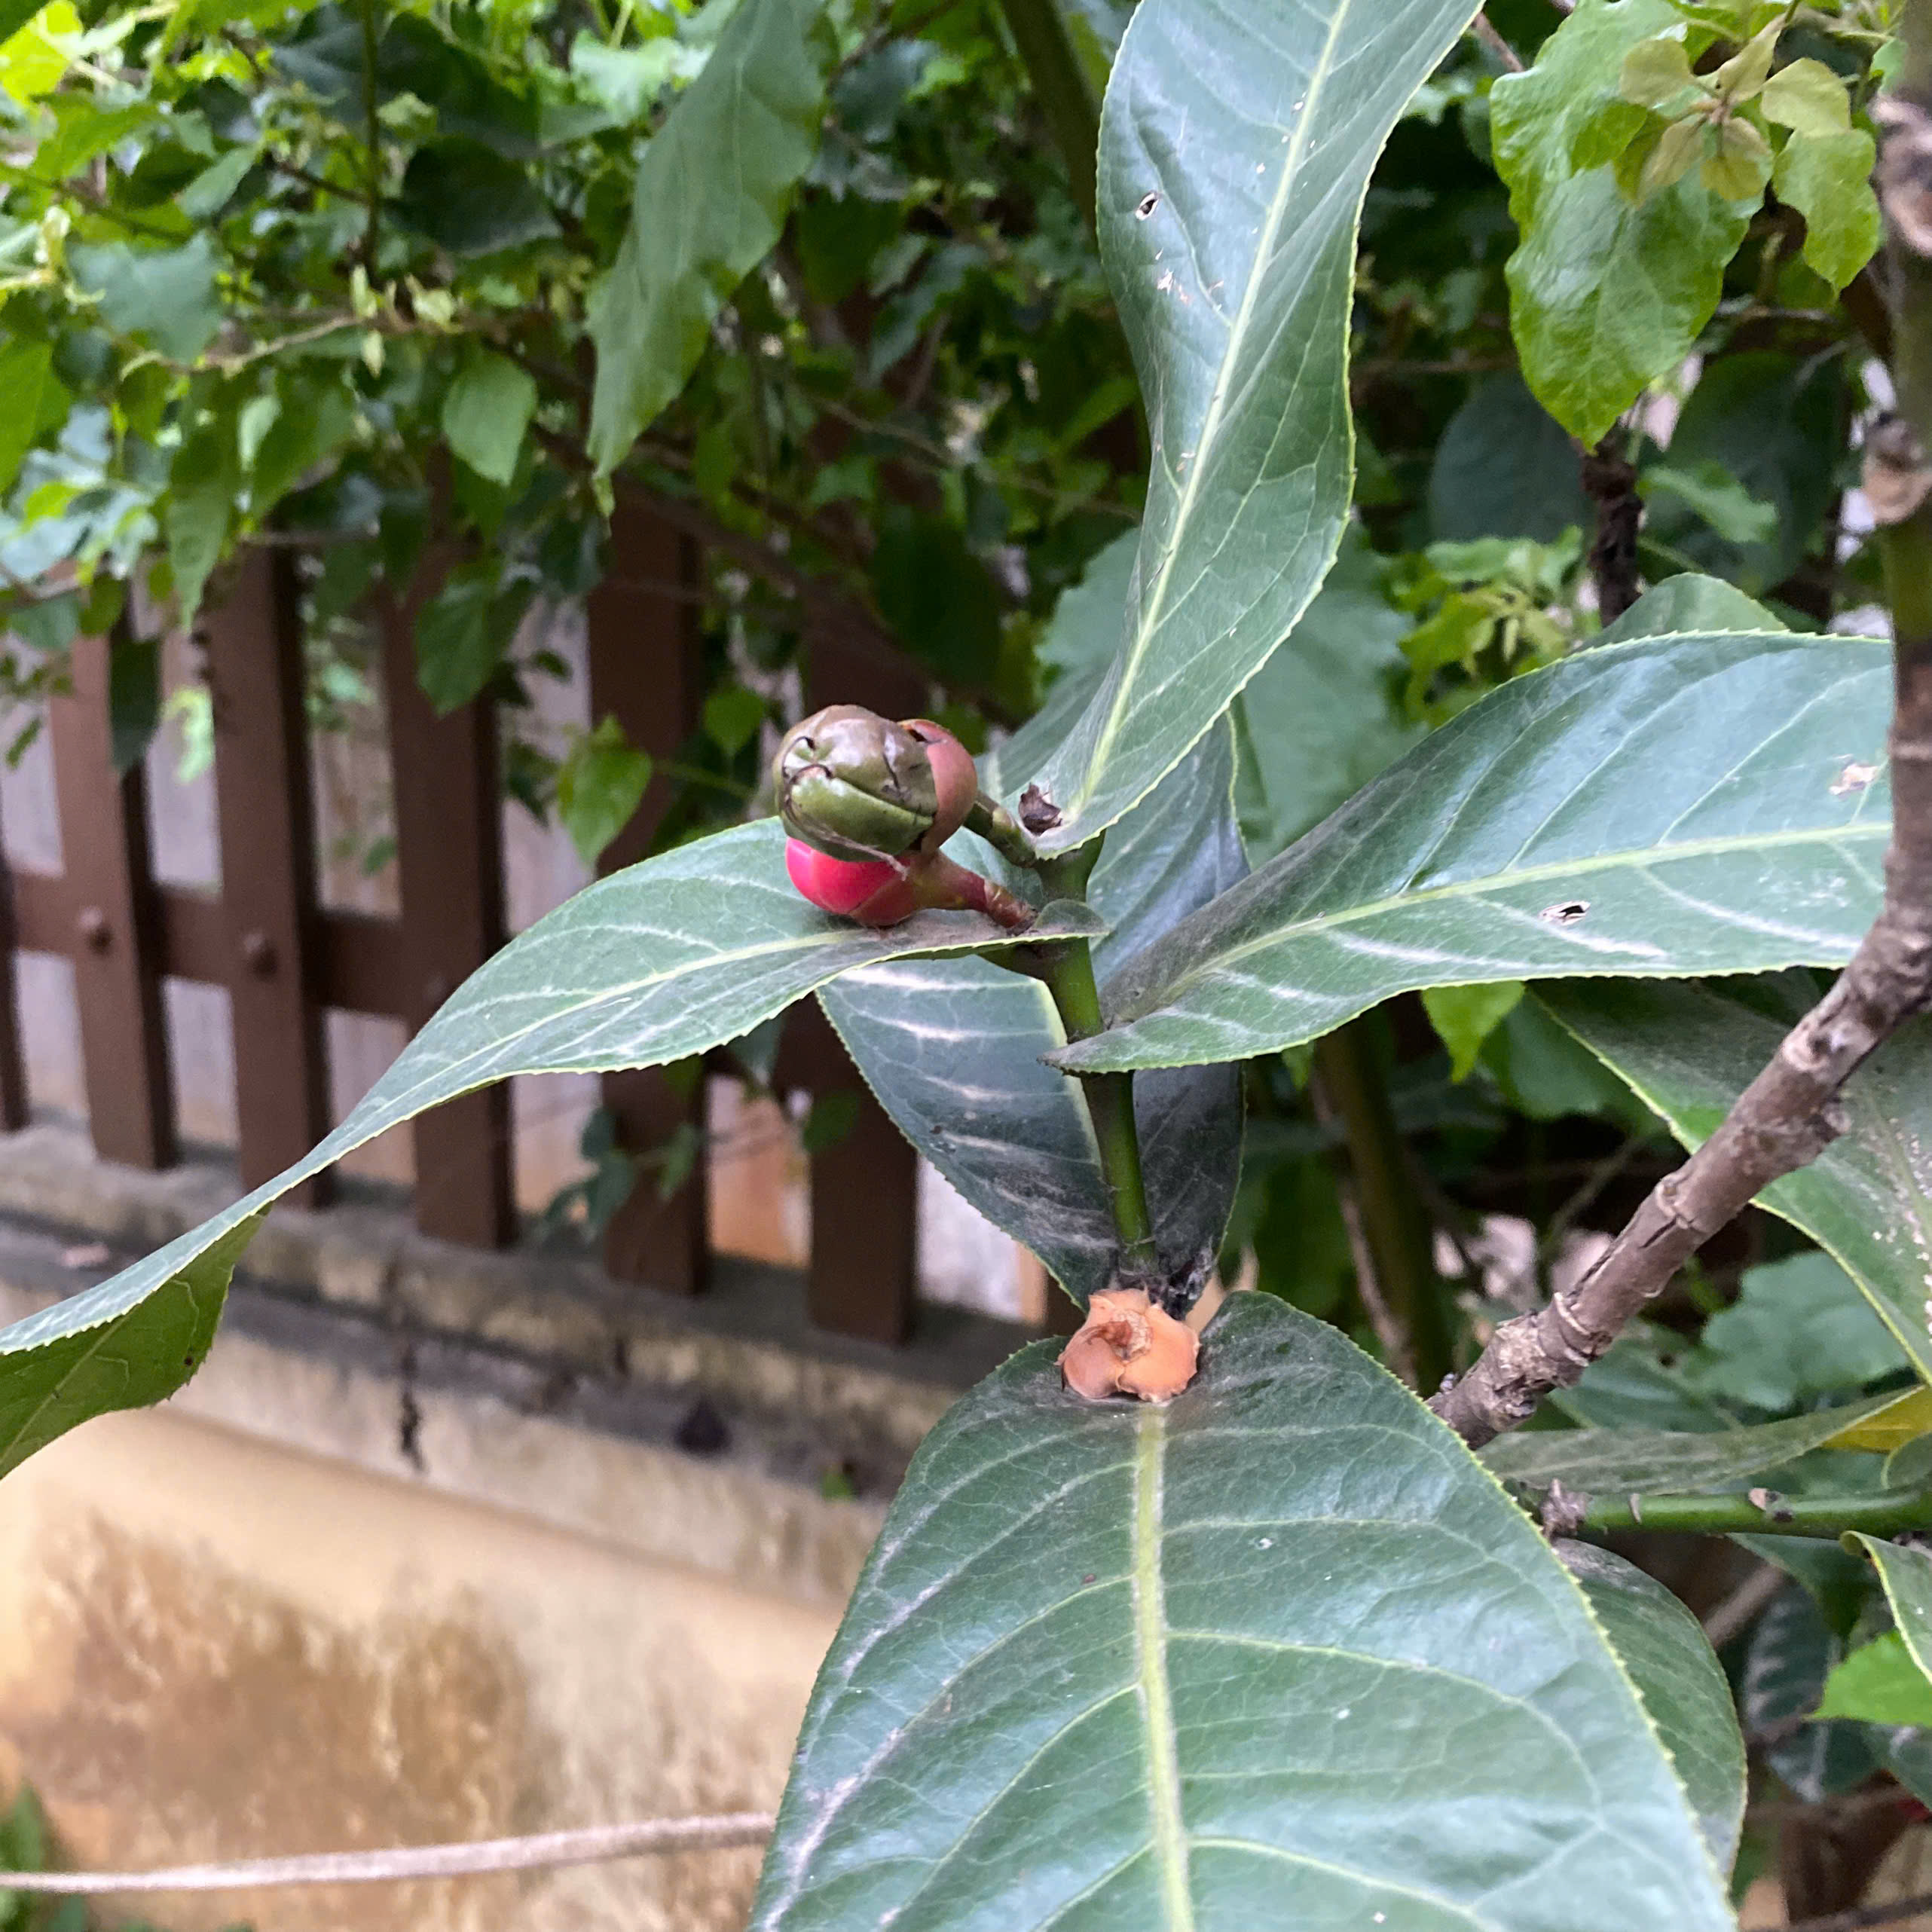hoa_hai_duong: (667, 621, 1118, 961)
